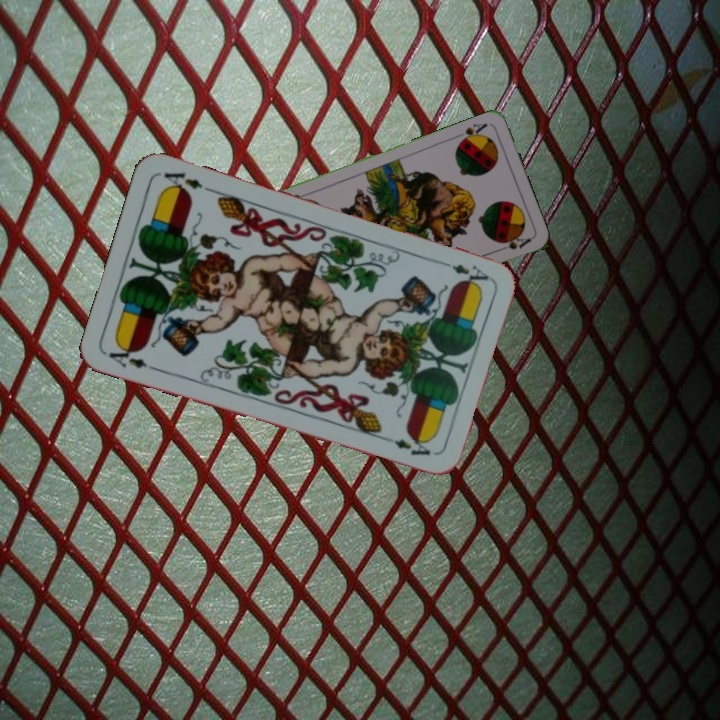EA: (105, 340, 160, 374), (435, 256, 492, 287)
SA: (455, 119, 490, 146)
